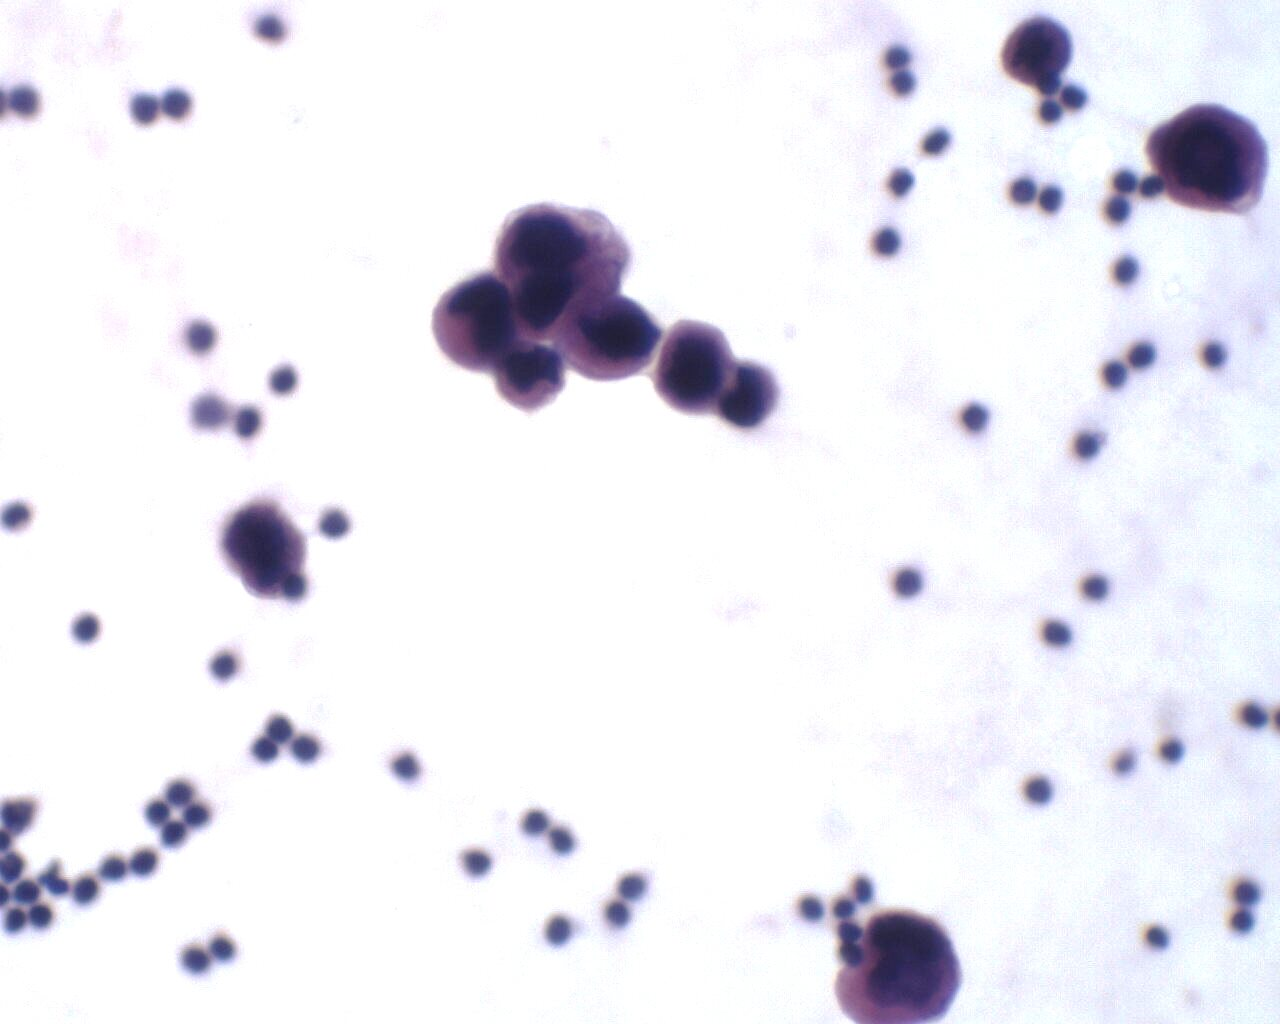ab: (1149, 88, 1269, 220), (563, 292, 656, 390), (658, 309, 735, 423), (495, 335, 568, 415)
lymph: (889, 560, 926, 612), (263, 359, 307, 402), (67, 603, 104, 649), (863, 218, 903, 260), (24, 900, 62, 933), (163, 774, 200, 808), (290, 731, 327, 765), (100, 852, 126, 886)
